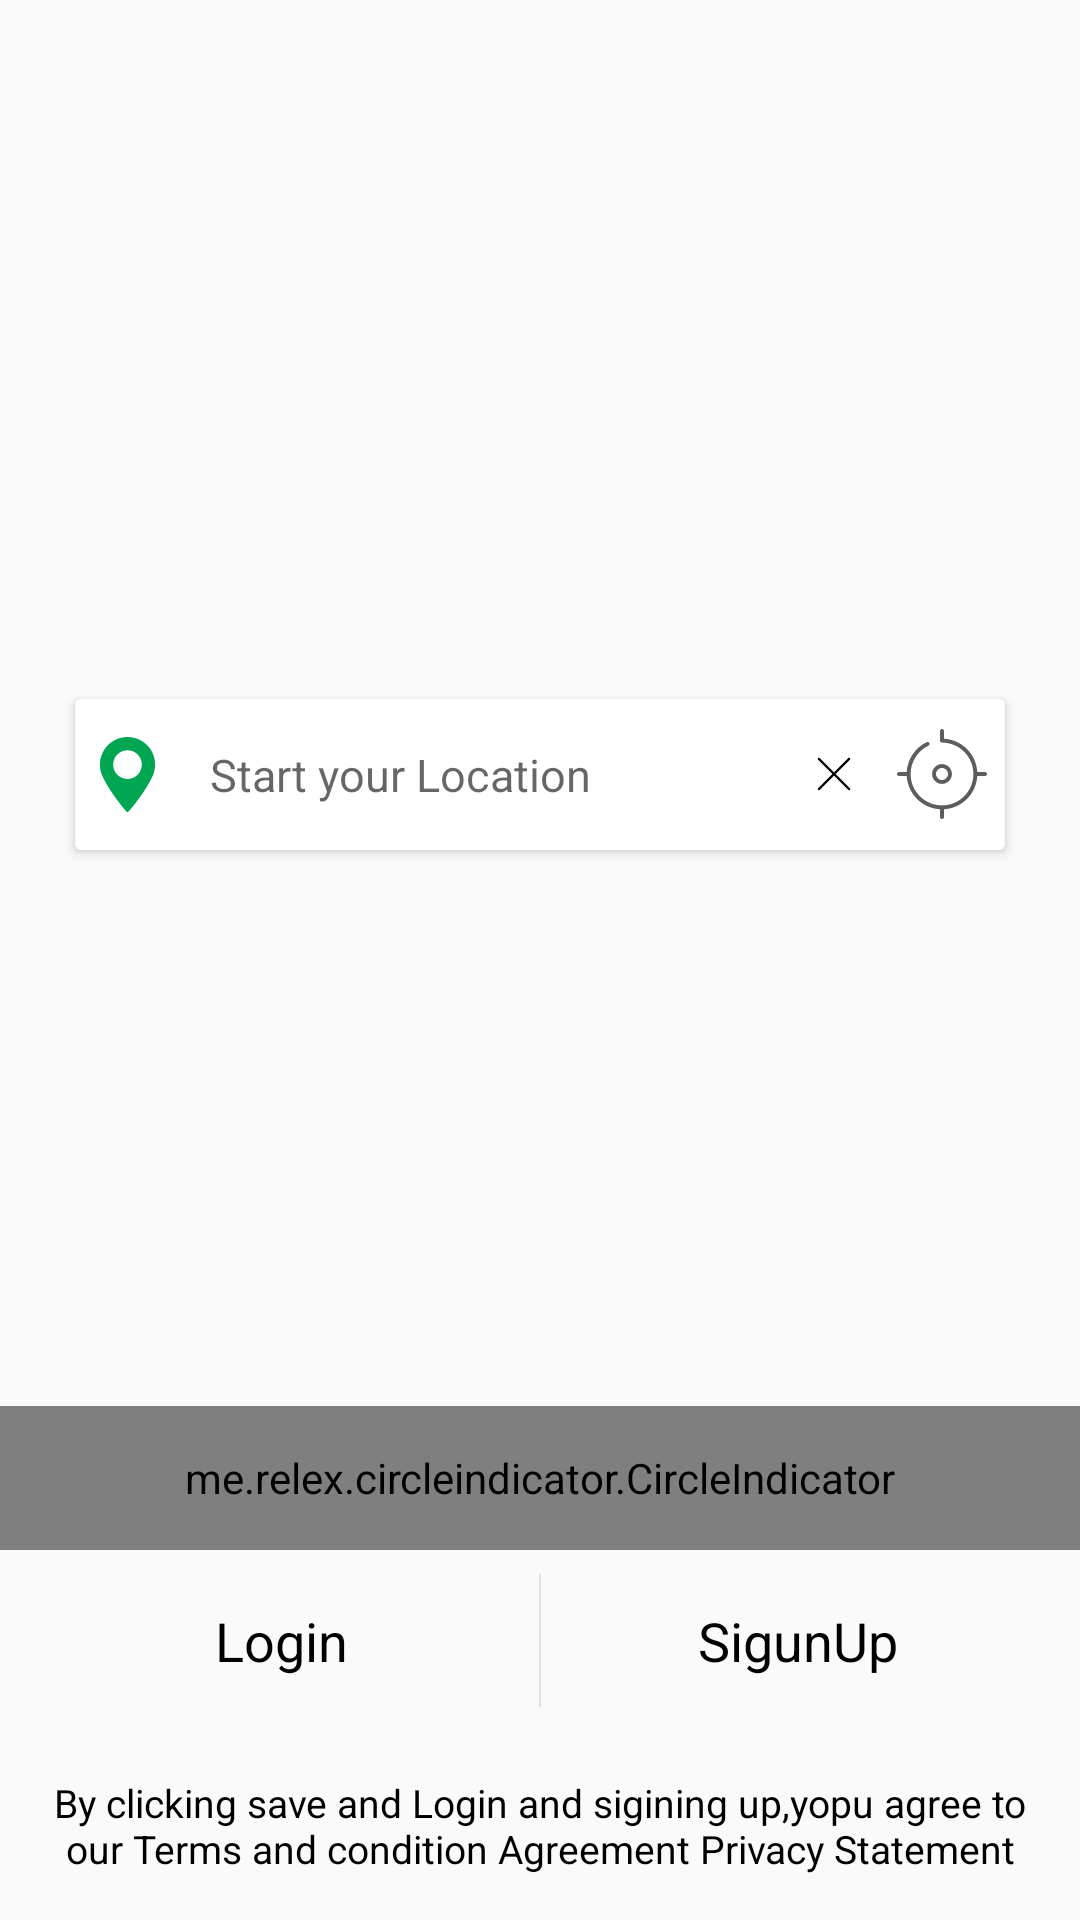

Point at icon controls on the screen. Image size 1080×1920, points as (x,y).
tracker: (942,774)
